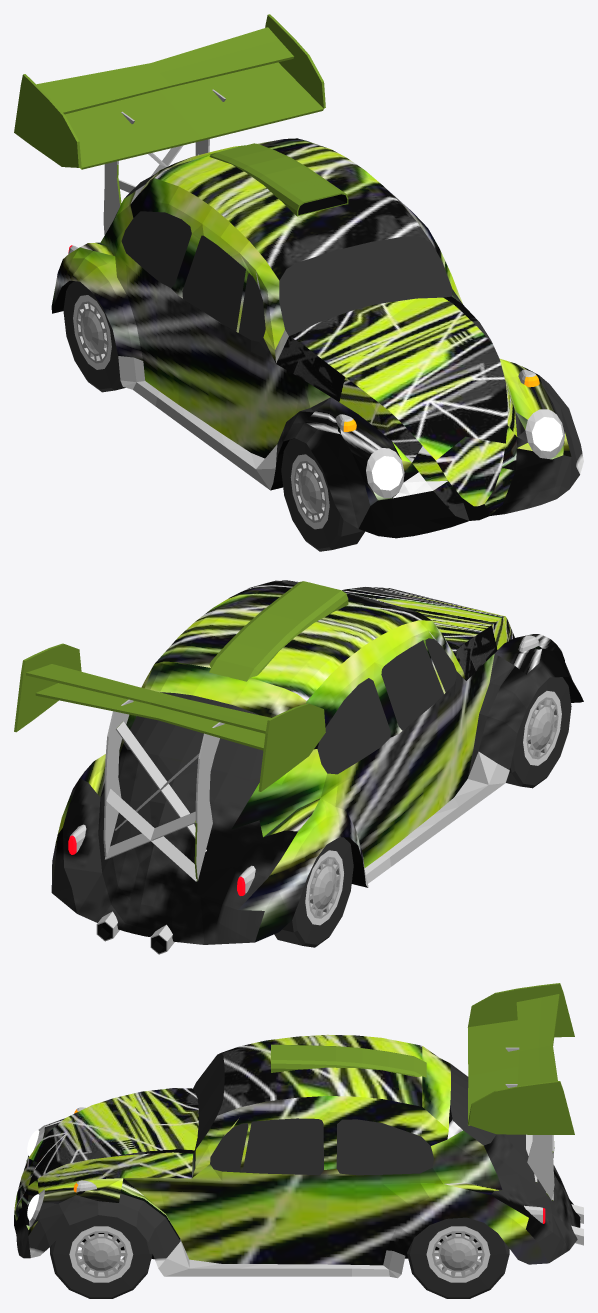
The model's file is bug_rod_rework.glb.
3 renders of one model, top to bottom at view 1: azimuth 30°, elevation 25°; view 2: azimuth 150°, elevation 25°; view 3: azimuth 270°, elevation 25°, orthographic. The views are drawn at different scales.
Parts seen in each view (by area): view 1: Cube, Circle.002, Circle.003; view 2: Cube, Circle.003, Circle.002; view 3: Cube, Circle, Circle.001.
Part boxes in pixels (x1=…): Cube: x1=14, y1=14, x2=583, y2=538; Circle.002: x1=281, y1=438, x2=364, y2=551; Circle.003: x1=63, y1=281, x2=125, y2=392; Cube: x1=14, y1=580, x2=583, y2=954; Circle.003: x1=274, y1=837, x2=353, y2=947; Circle.002: x1=506, y1=677, x2=571, y2=788; Cube: x1=14, y1=983, x2=583, y2=1278; Circle: x1=50, y1=1215, x2=152, y2=1298; Circle.001: x1=407, y1=1217, x2=509, y2=1298.
Size of the model in its own units: 1.76 by 1.84 by 4.29.
14 materials, 1 textured.
